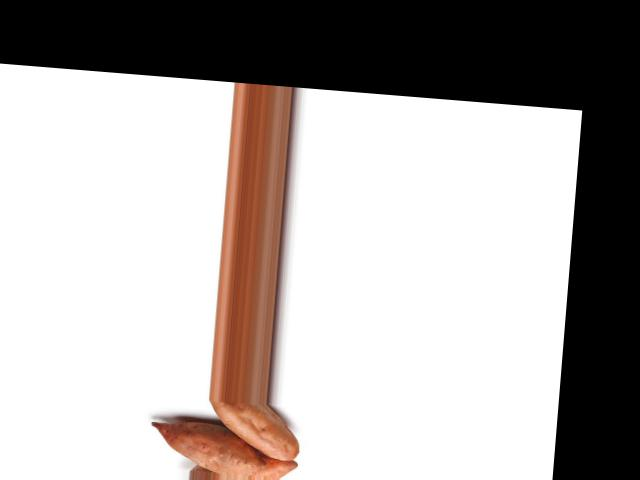sweet_potato: (199, 398, 303, 460)
